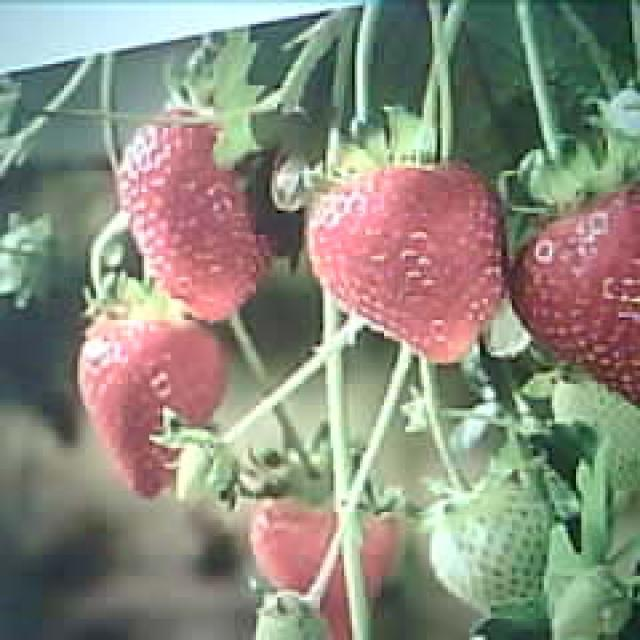strawberry: (309, 160, 505, 358), (122, 104, 276, 322), (79, 300, 225, 497), (432, 480, 562, 620)
